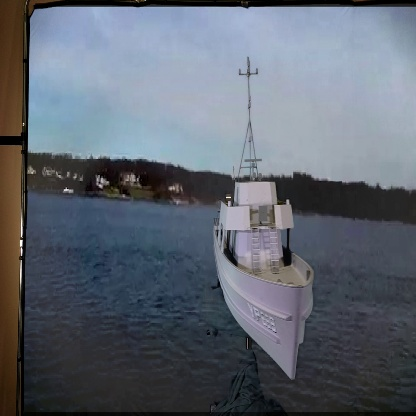YP689: (212, 58, 315, 380)
